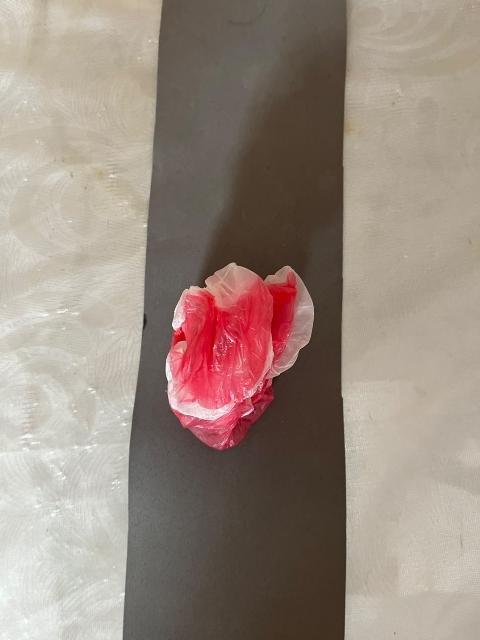LDPE: (144, 237, 340, 469)
